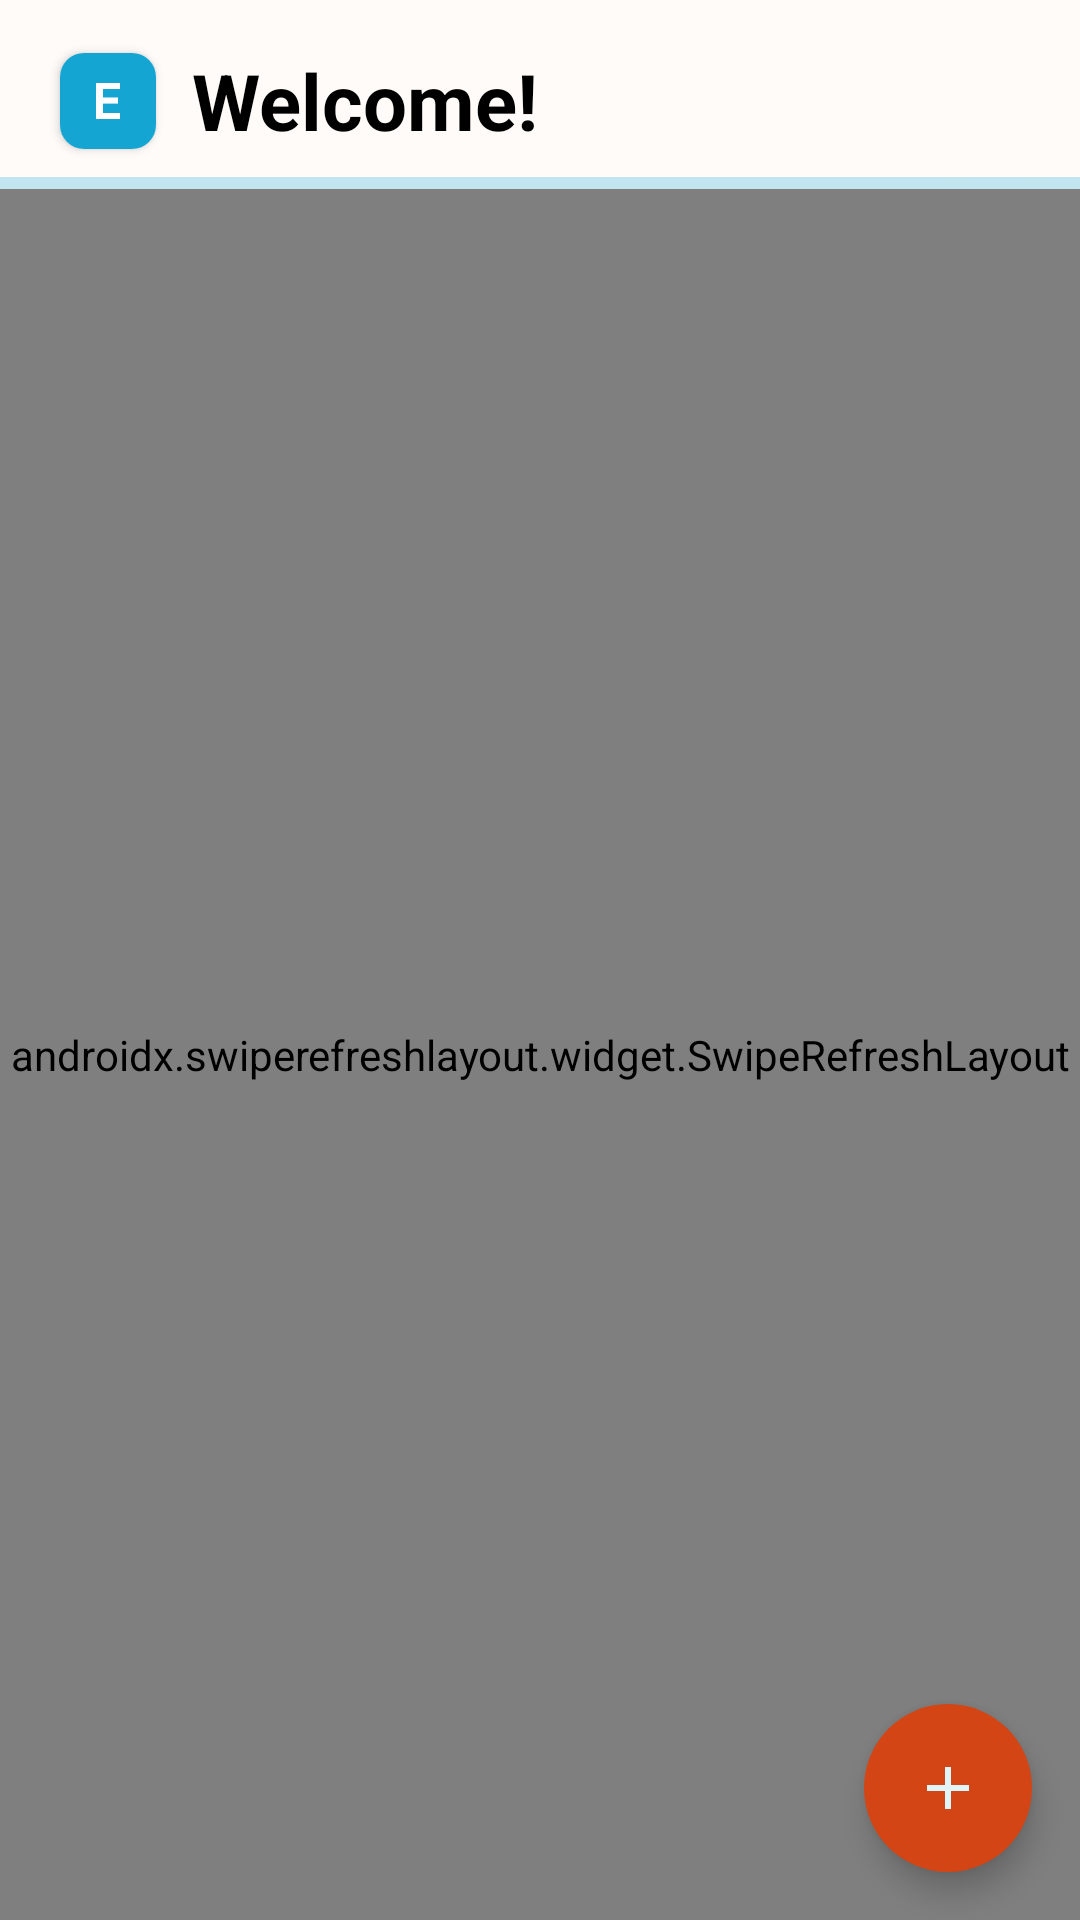

Icons on this 1080w x 1920h Android screen, each with its box as (x1, y1, x2, y2):
New event: (864, 1704, 1032, 1872)
